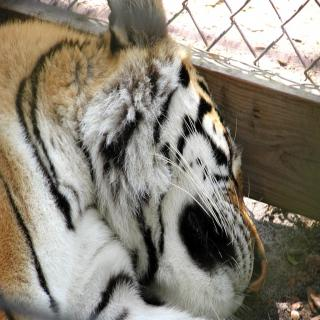Tiger: (0, 16, 267, 320)
